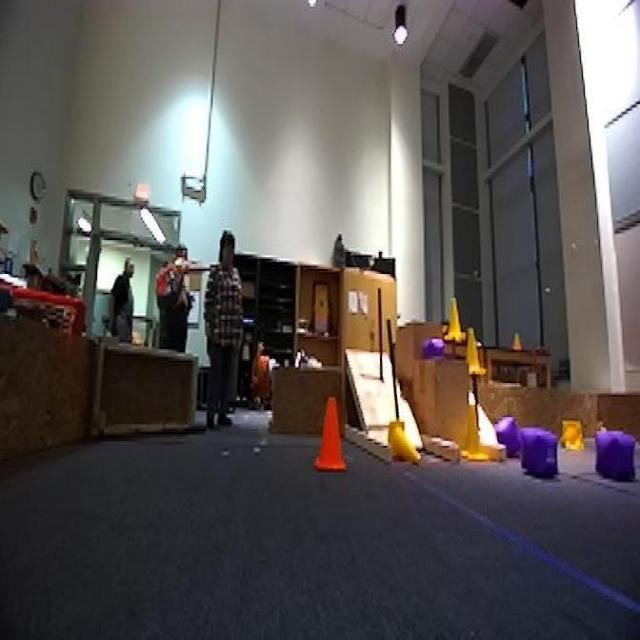frc_cone: (461, 400, 490, 461), (389, 417, 421, 466), (464, 325, 486, 376), (443, 298, 467, 342), (557, 417, 588, 451)
frc_cube: (595, 426, 636, 480), (520, 422, 559, 477), (493, 412, 521, 456), (421, 337, 446, 359)
